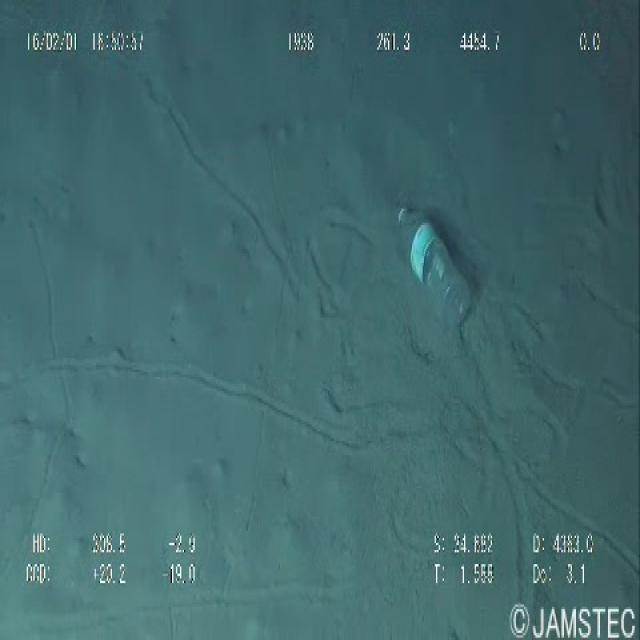plastic: (387, 192, 500, 337)
